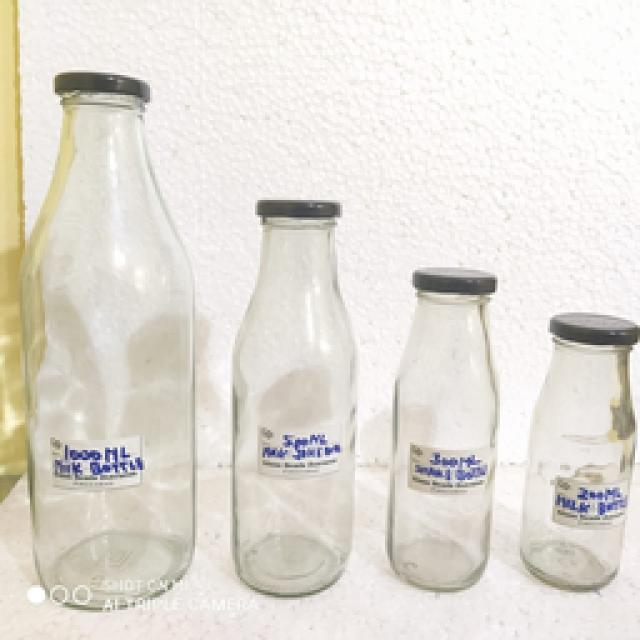glass_beverage_bottles: (35, 75, 193, 605), (235, 193, 365, 597), (382, 260, 503, 590), (528, 298, 634, 597)
